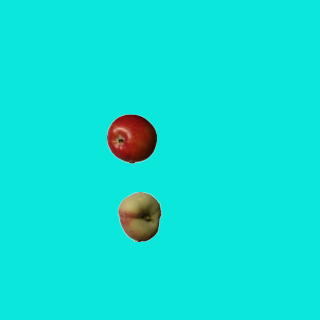Apple Braeburn: (106, 113, 156, 163)
Peach Flat: (114, 191, 164, 241)
